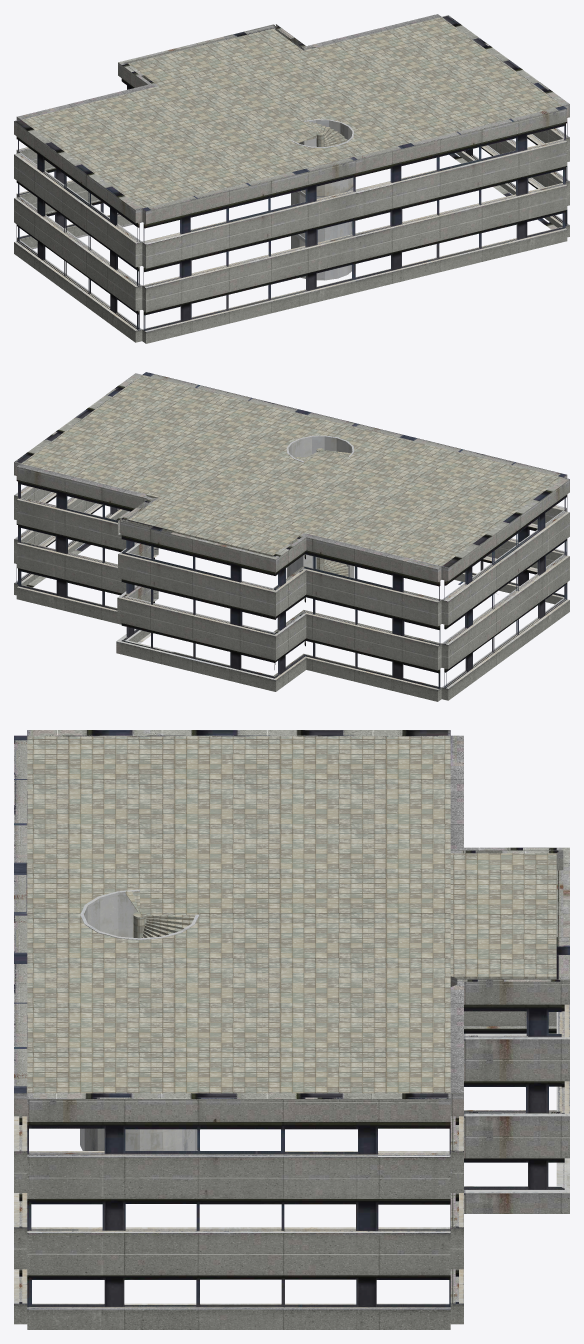
Rendered from BagSS05mid_500.fbx.
The picture shows the model from 3 angles, top to bottom: view 1: azimuth 30°, elevation 25°; view 2: azimuth 150°, elevation 25°; view 3: azimuth 270°, elevation 25°; orthographic projection. The views are drawn at different scales.
Visible parts, largest first — view 1: midMain500, midCeiling500, midWalls500, midStairs500; view 2: midMain500, midCeiling500, midWalls500, midStairs500; view 3: midCeiling500, midMain500, midWalls500, midStairs500.
Part boxes in pixels (x1,y1,x2,y2): midMain500: (14,14,569,343); midCeiling500: (21,17,562,208); midWalls500: (14,119,569,331); midStairs500: (293,121,347,146); midMain500: (14,372,569,701); midCeiling500: (21,375,562,566); midWalls500: (14,435,569,689); midStairs500: (294,448,351,576); midCeiling500: (27,736,556,1093); midMain500: (14,730,569,1329); midWalls500: (14,889,569,1309); midStairs500: (125,891,195,938).
Size of the model in its own units: 42.25 by 12.33 by 26.9.
